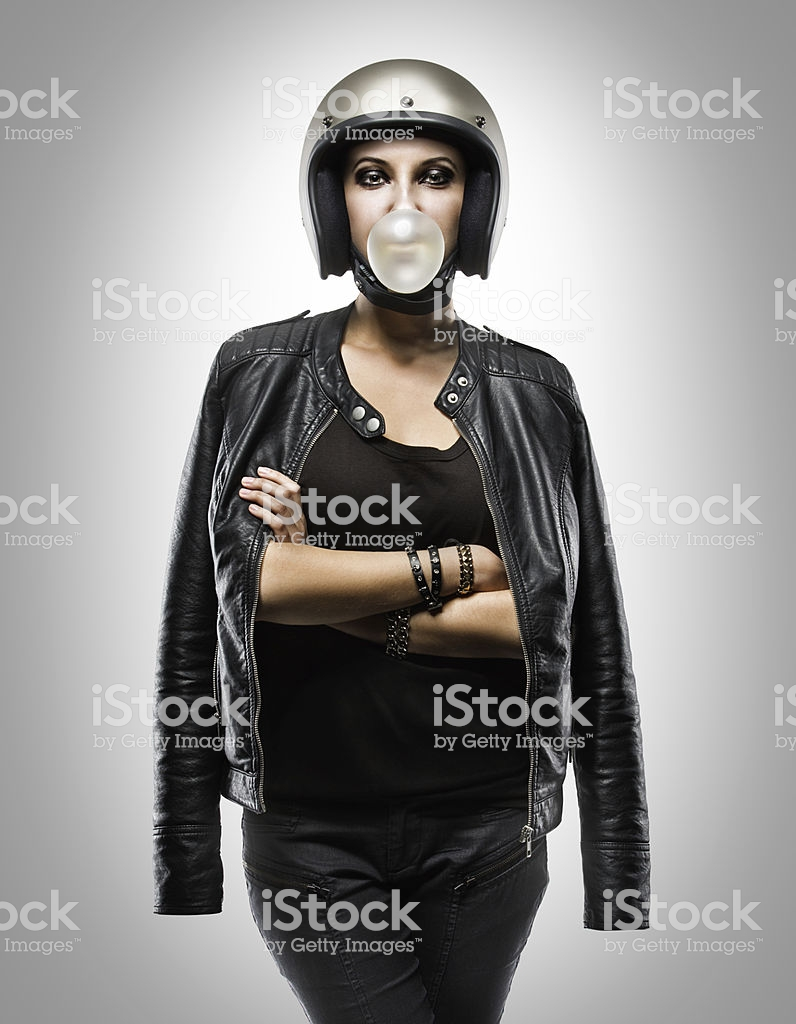helmet: (281, 64, 523, 257)
